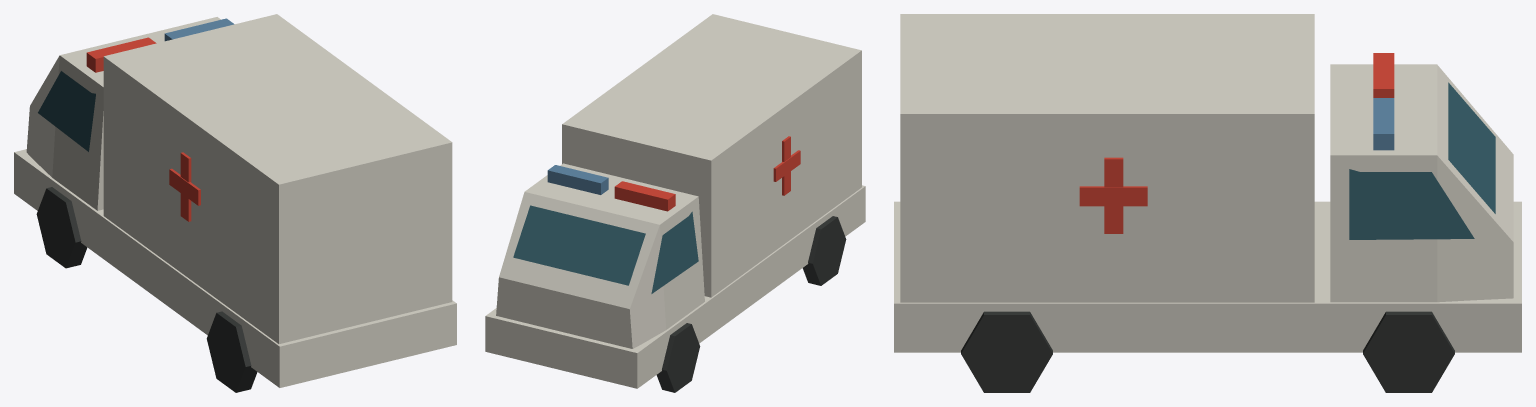
File: ambulance_far.glb
3 renders of one model, left to right at view 1: azimuth 30°, elevation 25°; view 2: azimuth 150°, elevation 25°; view 3: azimuth 270°, elevation 25°, orthographic. The views are drawn at different scales.
Visible parts, largest first — view 1: AmbulanceModel traffic_white, AmbulanceModel traffic_rubber, AmbulanceModel traffic_glass, AmbulanceModel traffic_red, Emergency beacon.001; view 2: AmbulanceModel traffic_white, AmbulanceModel traffic_glass, AmbulanceModel traffic_rubber, AmbulanceModel traffic_red, Emergency beacon.001; view 3: AmbulanceModel traffic_white, AmbulanceModel traffic_rubber, AmbulanceModel traffic_glass, AmbulanceModel traffic_red, Emergency beacon.001.
Boxes of the visible parts, x1=… form: AmbulanceModel traffic_white: x1=14, y1=14, x2=456, y2=387; AmbulanceModel traffic_rubber: x1=36, y1=187, x2=257, y2=392; AmbulanceModel traffic_glass: x1=38, y1=71, x2=95, y2=151; AmbulanceModel traffic_red: x1=86, y1=37, x2=200, y2=221; Emergency beacon.001: x1=164, y1=18, x2=234, y2=41; AmbulanceModel traffic_white: x1=485, y1=14, x2=865, y2=388; AmbulanceModel traffic_glass: x1=513, y1=205, x2=698, y2=293; AmbulanceModel traffic_rubber: x1=656, y1=216, x2=846, y2=392; AmbulanceModel traffic_red: x1=614, y1=136, x2=800, y2=211; Emergency beacon.001: x1=547, y1=165, x2=608, y2=194; AmbulanceModel traffic_white: x1=894, y1=14, x2=1521, y2=352; AmbulanceModel traffic_rubber: x1=961, y1=311, x2=1454, y2=392; AmbulanceModel traffic_glass: x1=1349, y1=82, x2=1495, y2=239; AmbulanceModel traffic_red: x1=1079, y1=53, x2=1394, y2=233; Emergency beacon.001: x1=1373, y1=98, x2=1394, y2=150.
Bounding box in the file's own units: 2.53 × 2.98 × 6.17.
